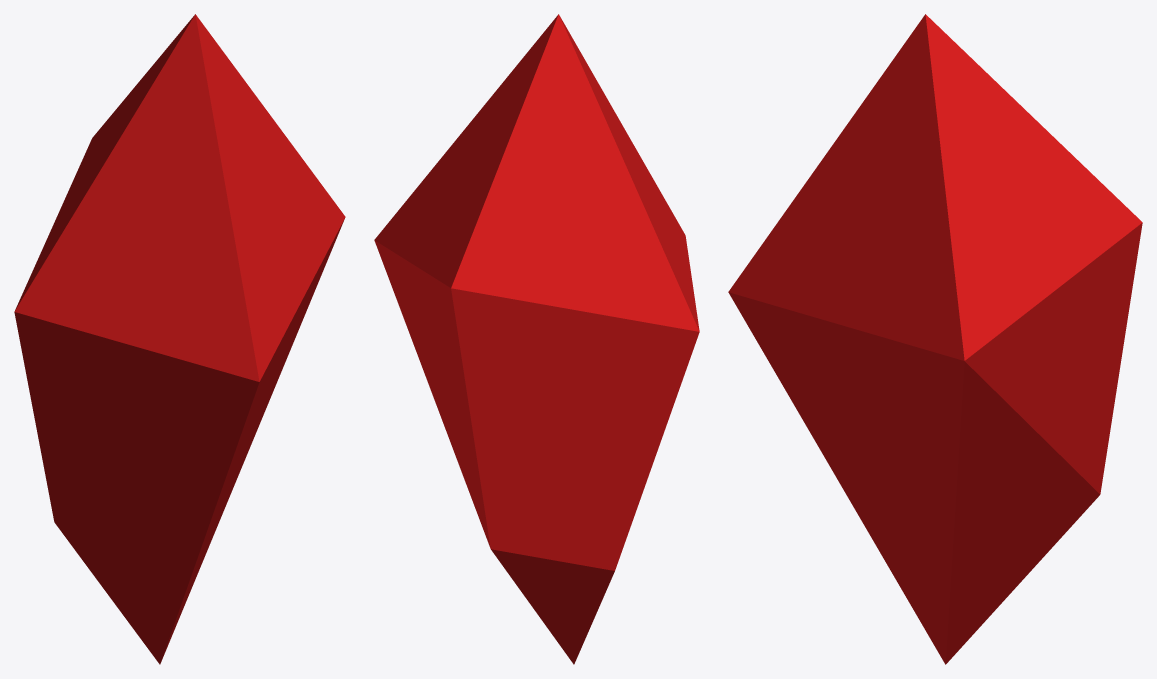
The model's file is Crystal-Item02.fbx.
3 views of the same model, side by side, from view 1: azimuth 30°, elevation 25°; view 2: azimuth 150°, elevation 25°; view 3: azimuth 270°, elevation 25° (orthographic). The views are drawn at different scales.
Parts seen in each view (by area): view 1: Crystal-Item02; view 2: Crystal-Item02; view 3: Crystal-Item02.
Part boxes in pixels (left/top/right/bottom): Crystal-Item02: left=14, top=14, right=345, bottom=664; Crystal-Item02: left=374, top=14, right=699, bottom=664; Crystal-Item02: left=728, top=14, right=1142, bottom=664.
Size of the model in its own units: 42.75 by 80.23 by 45.41.
